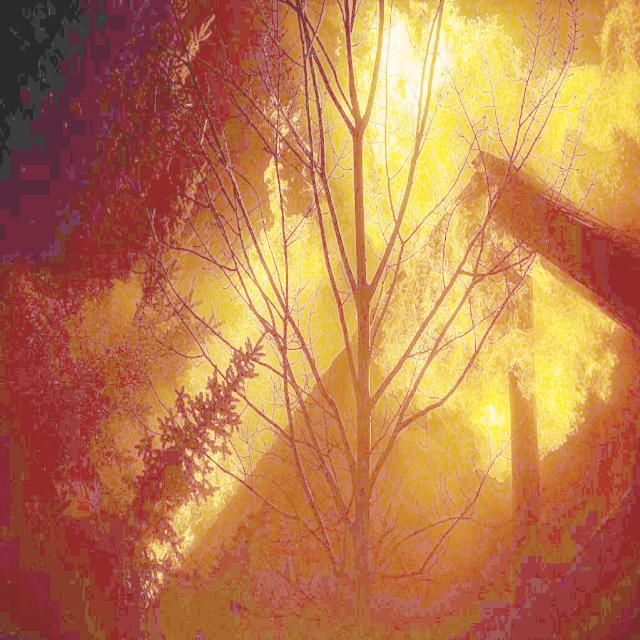api: (348, 1, 597, 484), (238, 145, 325, 347), (152, 425, 247, 602)
asap: (535, 1, 640, 167)
